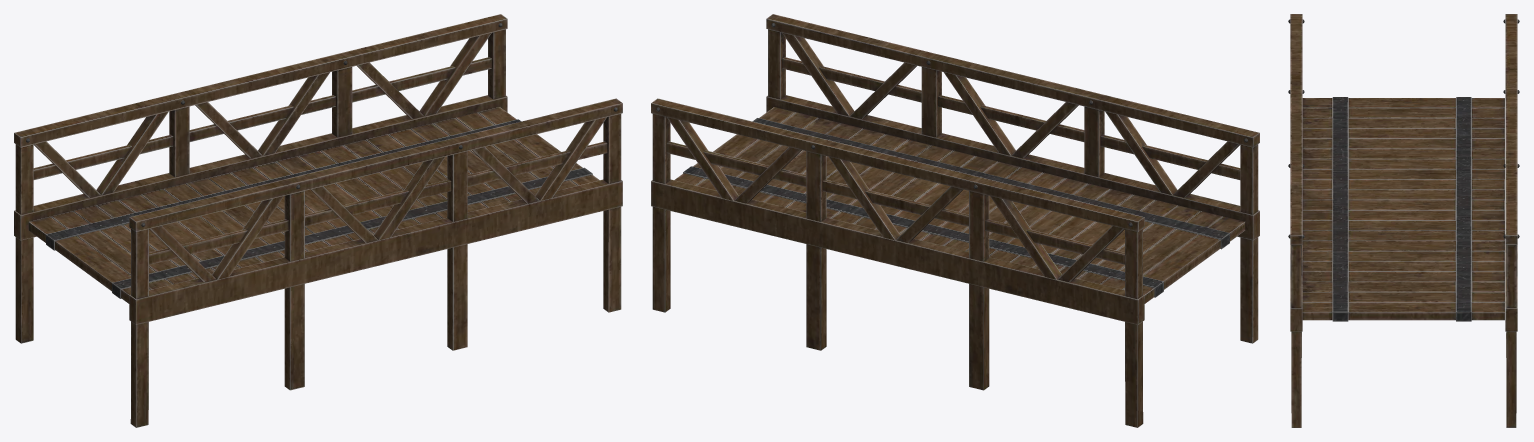
The model's file is bridge_4.glb.
The picture shows the model from 3 angles, left to right: view 1: azimuth 30°, elevation 25°; view 2: azimuth 150°, elevation 25°; view 3: azimuth 270°, elevation 25°; orthographic projection. The views are drawn at different scales.
Visible parts, largest first — view 1: Bridge.001_Bridge_0; view 2: Bridge.001_Bridge_0; view 3: Bridge.001_Bridge_0.
Boxes of the visible parts, <box> form: Bridge.001_Bridge_0: <box>14,14,622,427</box>; Bridge.001_Bridge_0: <box>651,14,1259,427</box>; Bridge.001_Bridge_0: <box>1288,14,1519,427</box>.
Bounding box in the file's own units: 9.91 × 4.02 × 4.37.
1 material, 1 textured.
